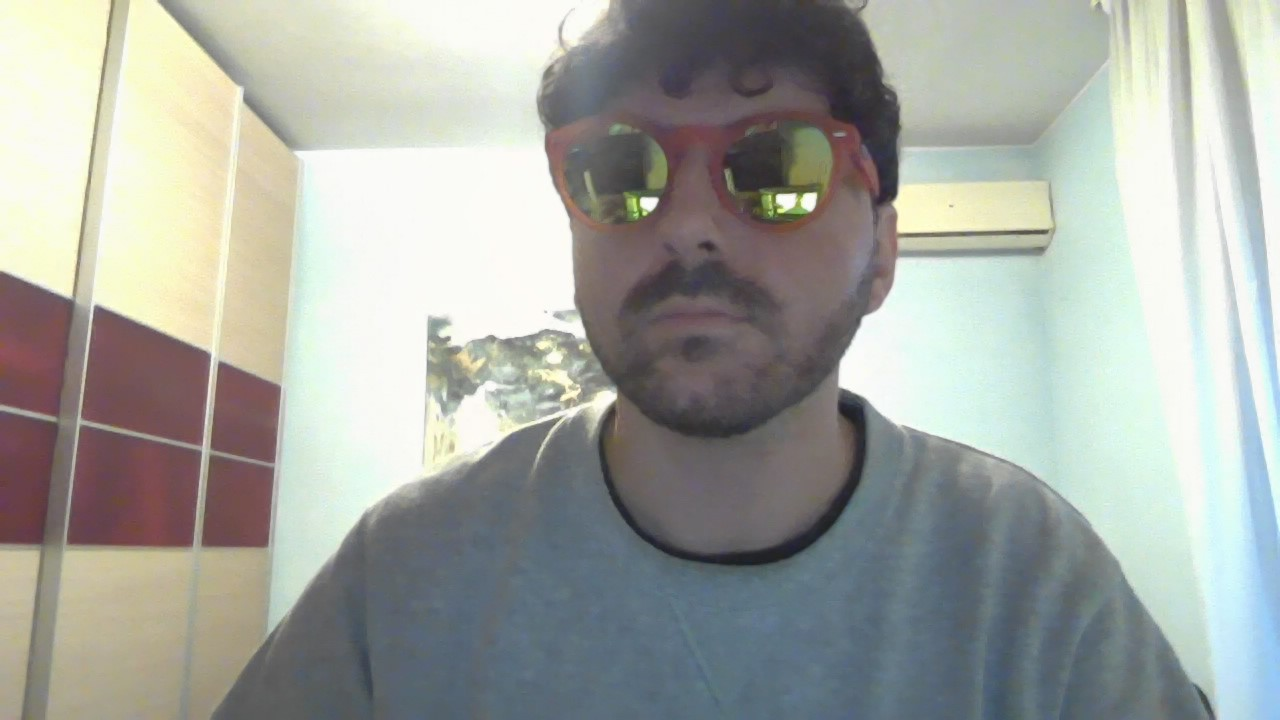Glasses: (532, 114, 903, 244)
